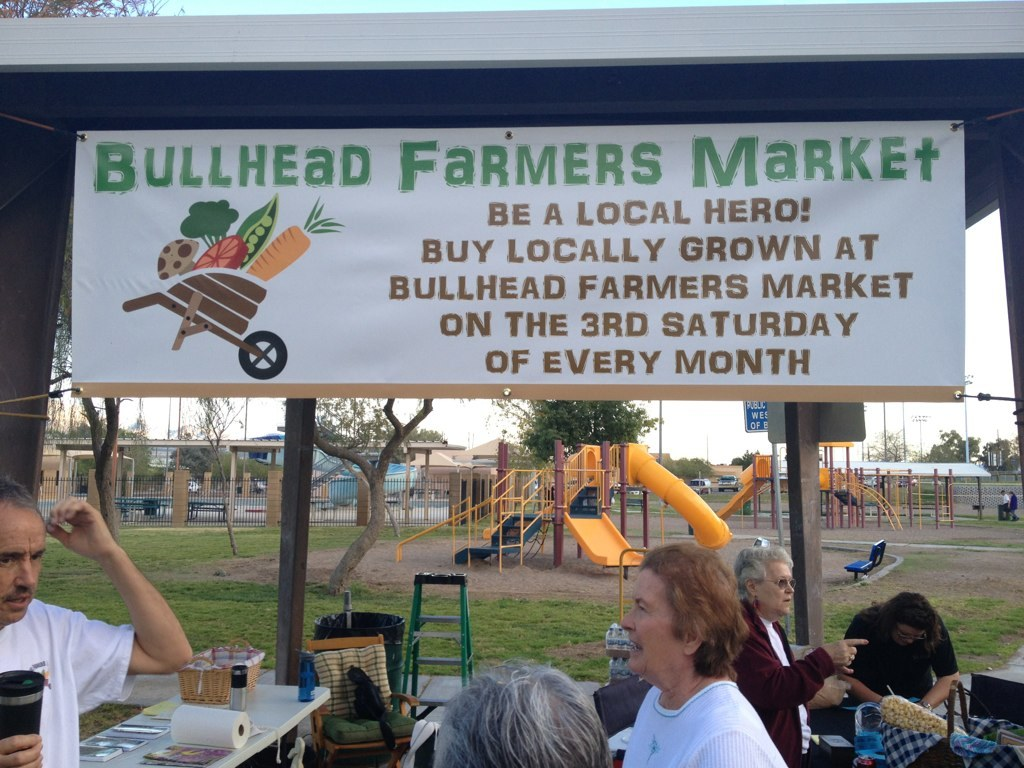Human_hand: (37, 499, 141, 607), (0, 733, 44, 767), (821, 638, 871, 667), (835, 660, 856, 674)
